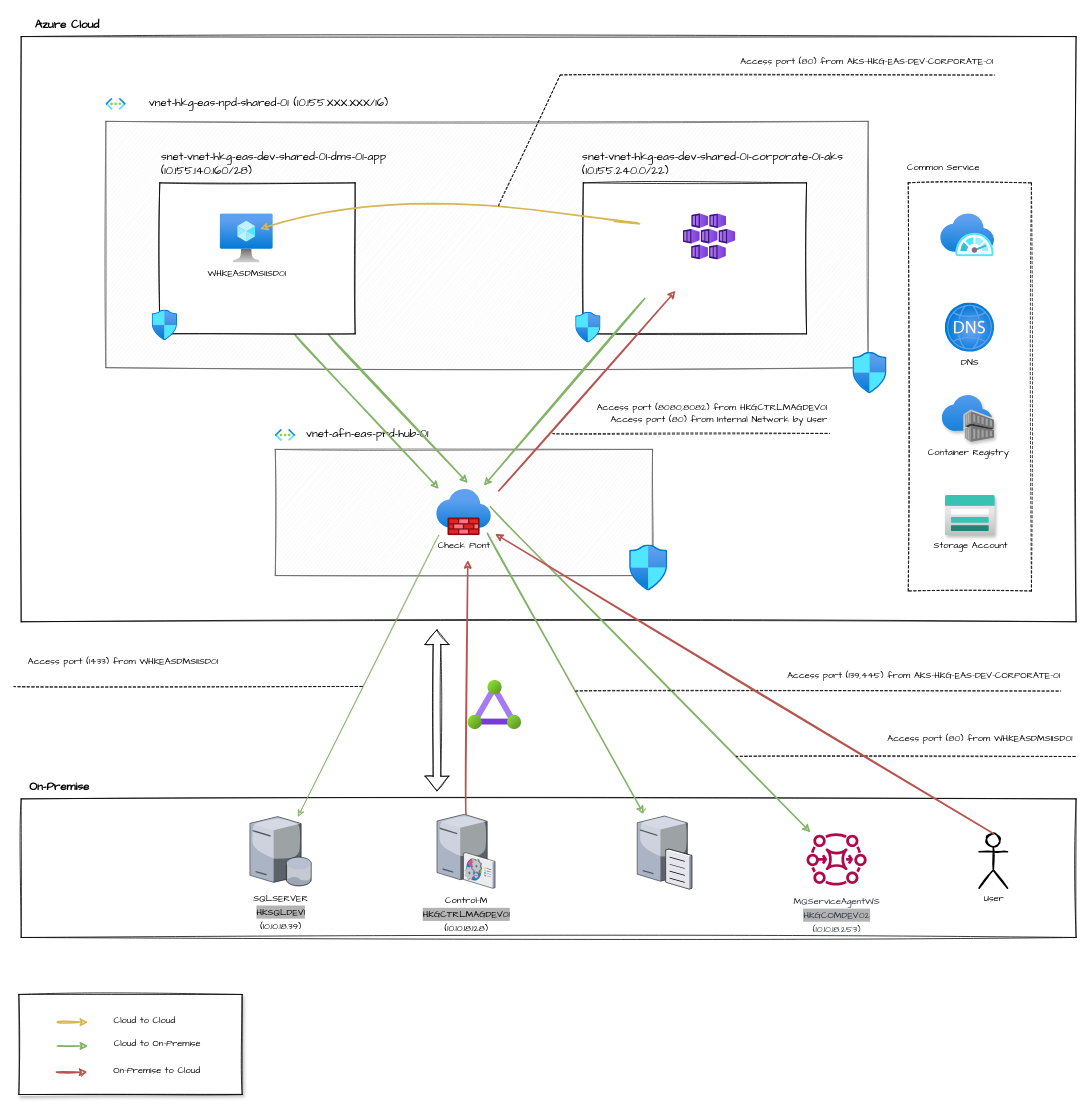
Image size: 1090x1113. Some labels were removed from this diagram. The shapes that lost their labels are listed below. From the top down, each one's centre as x and y in pixels, then its label:
pixel 709 236: AKS-HKG-EAS-DEV-CORPORATE-01
pixel 967 234: Monitor
pixel 494 704: Azure Express Route
pixel 664 851: SMB Mounting Folder \\eaant2\SitApps\AIDS (10.10.1.12)
